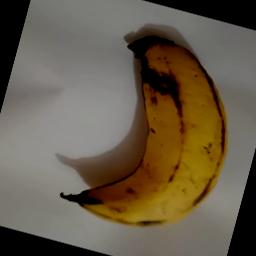Banana Unripe: (58, 22, 252, 252)
